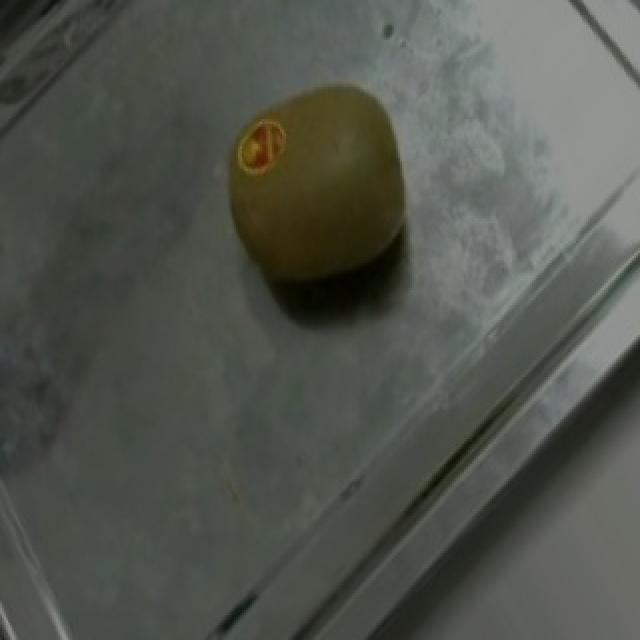Fruit: (188, 47, 448, 335)
